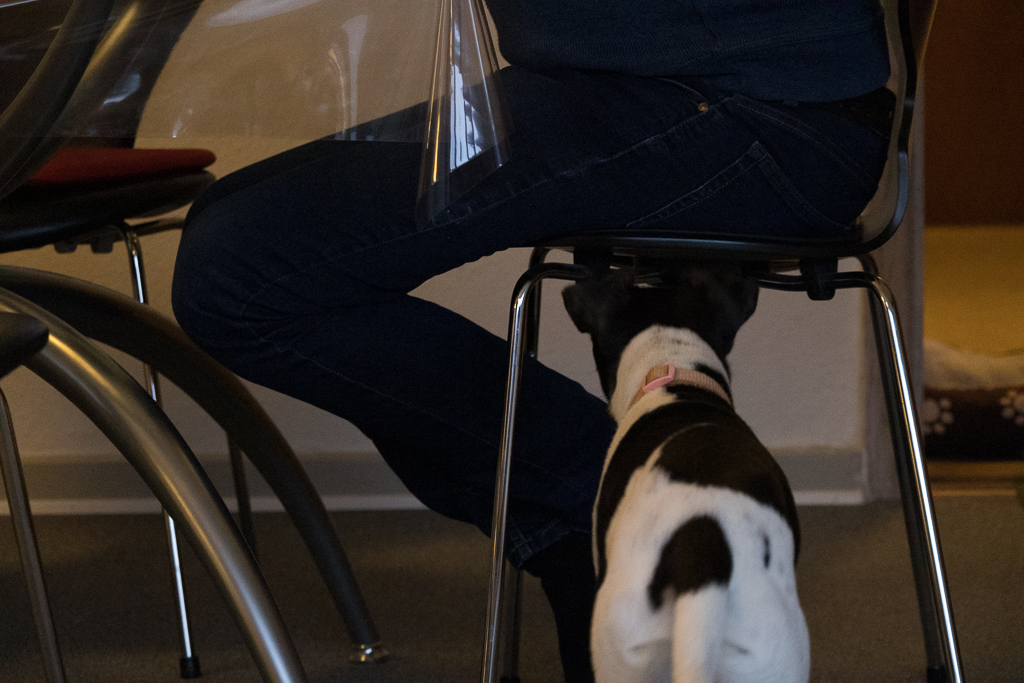Dog: (548, 242, 819, 683)
Humanoid: (161, 0, 899, 683)
